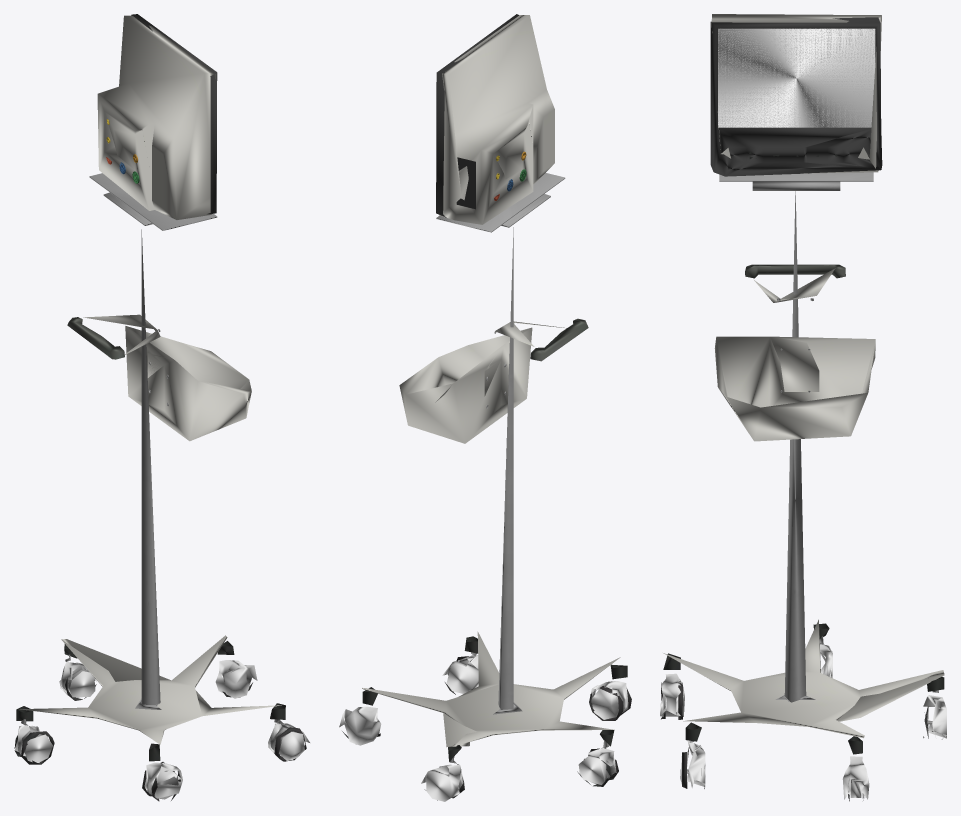
Rendered from monitor.glb.
The picture shows the model from 3 angles, left to right: view 1: azimuth 30°, elevation 25°; view 2: azimuth 150°, elevation 25°; view 3: azimuth 270°, elevation 25°; orthographic projection. The views are drawn at different scales.
Parts seen in each view (by area): view 1: body; view 2: body; view 3: body.
Part boxes in pixels (x1,y1,x2,y2): body: (14, 14, 309, 801); body: (339, 14, 631, 801); body: (660, 14, 946, 801).
Size of the model in its own units: 0.5676 by 1.48 by 0.5244.
Materials: 13 (10 with a texture image).
